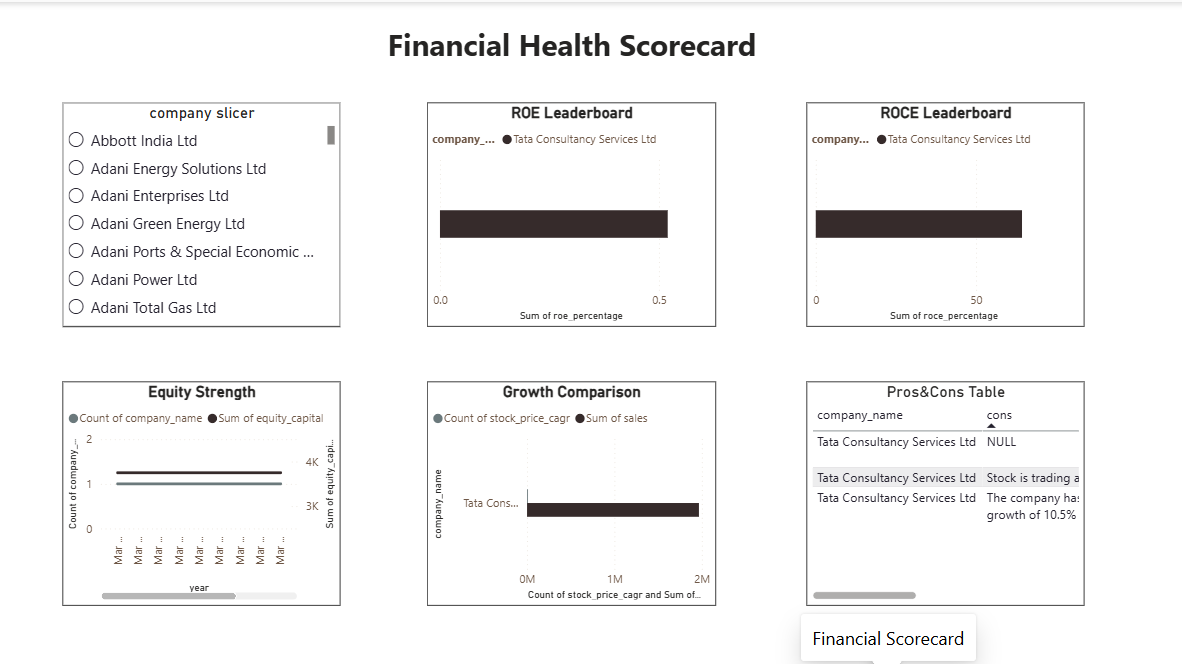

The page's visual inventory and layout, read from the dashboard file:
{"tool":"powerbi","page":{"name":"Financial Scorecard","canvas":[1280,720],"ordinal":3},"visuals":[{"type":"textbox","box":[331.7,18.3,645,45],"z":0},{"type":"listSlicer","title":"company slicer","fields":{"Values":["Companies  |  92 records (Companies).company_name"]},"box":[70,108.3,300,241.7],"z":1000},{"type":"clusteredBarChart","title":"ROE Leaderboard","fields":{"Series":["Companies  |  92 records (Companies).company_name"],"Y":["Sum(Companies  |  92 records (Companies).roe_percentage)"]},"box":[463.3,108.3,311.7,241.7],"z":2000},{"type":"clusteredBarChart","title":"ROCE Leaderboard","fields":{"Series":["Companies  |  92 records (Companies).company_name"],"Y":["Sum(Companies  |  92 records (Companies).roce_percentage)"]},"box":[873.3,108.3,300,241.7],"z":3000},{"type":"lineChart","title":"Equity Strength","fields":{"Category":["Profit & Loss  |  1,276 records (Profit & Loss.year"],"Y":["CountNonNull(Companies  |  92 records (Companies).company_name)"],"Y2":["Sum(Balance Sheet  |  1,312 records (Balance Sheet.equity_capital)"]},"box":[70,410,300,241.7],"z":4000},{"type":"clusteredBarChart","title":"Growth Comparison","fields":{"Y":["CountNonNull(Analysis  |  20 records (Analysis).stock_price_cagr)","Sum(Profit & Loss  |  1,276 records (Profit & Loss.sales)"],"Category":["Companies  |  92 records (Companies).company_name"]},"box":[463.3,410,311.7,241.7],"z":5000},{"type":"tableEx","title":"Pros&Cons Table","fields":{"Values":["Companies  |  92 records (Companies).company_name","Bluestock Fintech — Nifty 100  |  Pros & Cons  |  16 records (Pros & Cons).cons","Bluestock Fintech — Nifty 100  |  Pros & Cons  |  16 records (Pros & Cons).pros"]},"box":[873.3,410,300,241.7],"z":6000},{"type":"textbox","box":[331.7,18.3,575,61.7],"z":7000}]}

Visuals, with their boxes in screenshot pixels (x1, y1, x2, y2), scaled from the page's 1280x720 canvas onto the 1182x664 screenshot:
textbox: 306,17,902,58
"company slicer" listSlicer: 65,100,342,323
"ROE Leaderboard" clusteredBarChart: 428,100,716,323
"ROCE Leaderboard" clusteredBarChart: 806,100,1083,323
"Equity Strength" lineChart: 65,378,342,601
"Growth Comparison" clusteredBarChart: 428,378,716,601
"Pros&Cons Table" tableEx: 806,378,1083,601
textbox: 306,17,837,74
